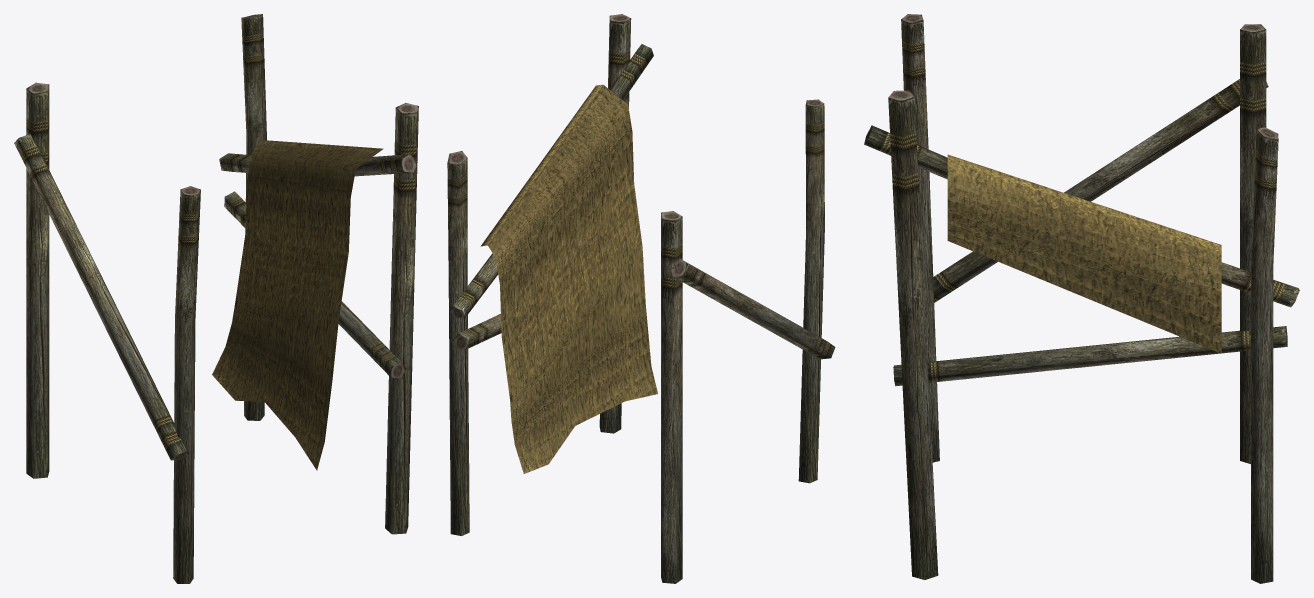
File: thing_hake_03.glb
3 renders of one model, left to right at view 1: azimuth 30°, elevation 25°; view 2: azimuth 150°, elevation 25°; view 3: azimuth 270°, elevation 25°, orthographic. The views are drawn at different scales.
Visible parts, largest first — view 1: thing_hake_03; view 2: thing_hake_03; view 3: thing_hake_03.
Boxes of the visible parts, x1,y1,x2,y2 form: thing_hake_03: (14, 14, 418, 583); thing_hake_03: (447, 14, 835, 583); thing_hake_03: (864, 14, 1299, 583).
Size of the model in its own units: 3.05 by 5 by 4.12.
1 material, 1 textured.
